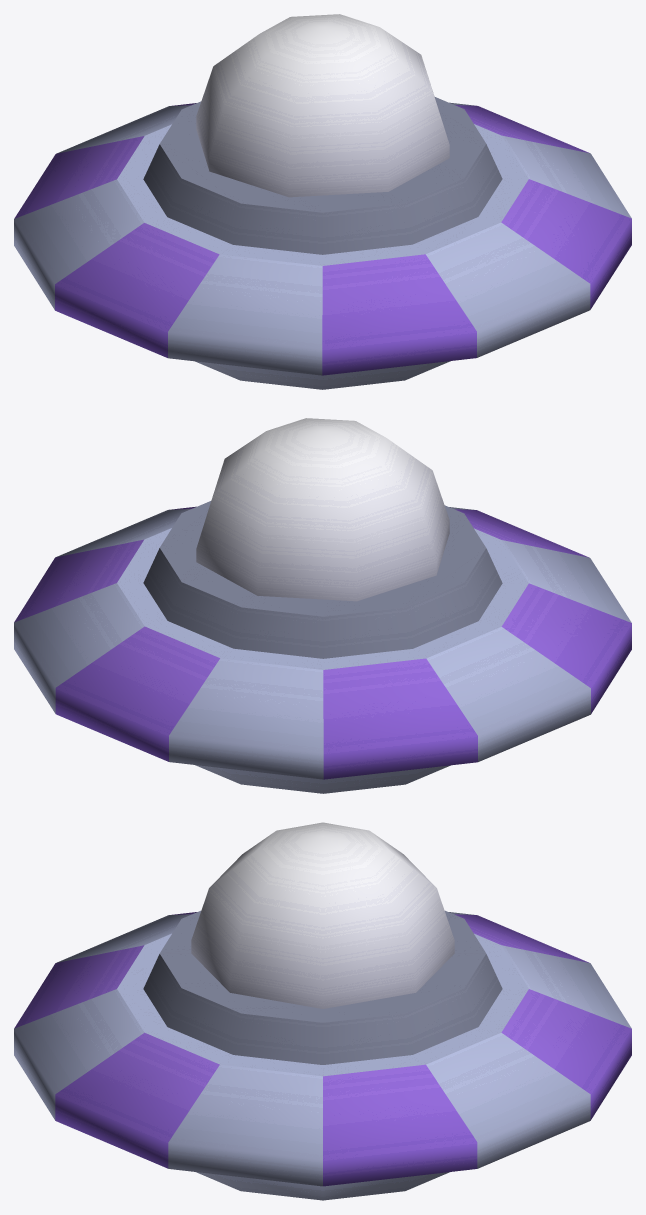
Rendered from enemy-ufo-c.glb.
3 renders of one model, top to bottom at view 1: azimuth 30°, elevation 25°; view 2: azimuth 150°, elevation 25°; view 3: azimuth 270°, elevation 25°, orthographic.
Parts seen in each view (by area): view 1: enemy-ufo-c; view 2: enemy-ufo-c; view 3: enemy-ufo-c.
Boxes of the visible parts, x1,y1,x2,y2 form: enemy-ufo-c: [14, 14, 631, 389]; enemy-ufo-c: [14, 418, 631, 793]; enemy-ufo-c: [14, 822, 631, 1200].
Size of the model in its own units: 1 by 0.5254 by 1.
Materials: 1 (1 with a texture image).
